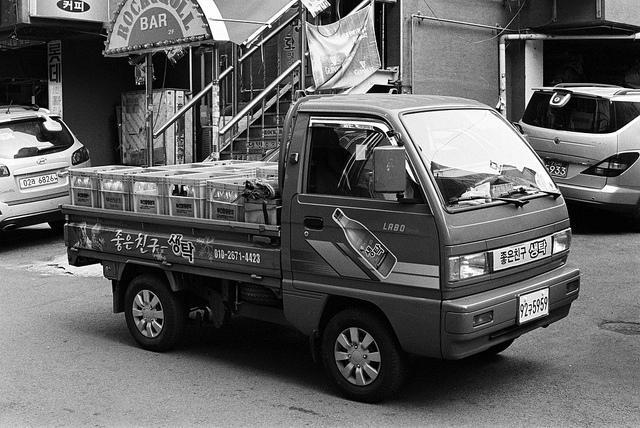car: (518, 85, 640, 215), (0, 106, 94, 246)
truck: (58, 93, 580, 403)
